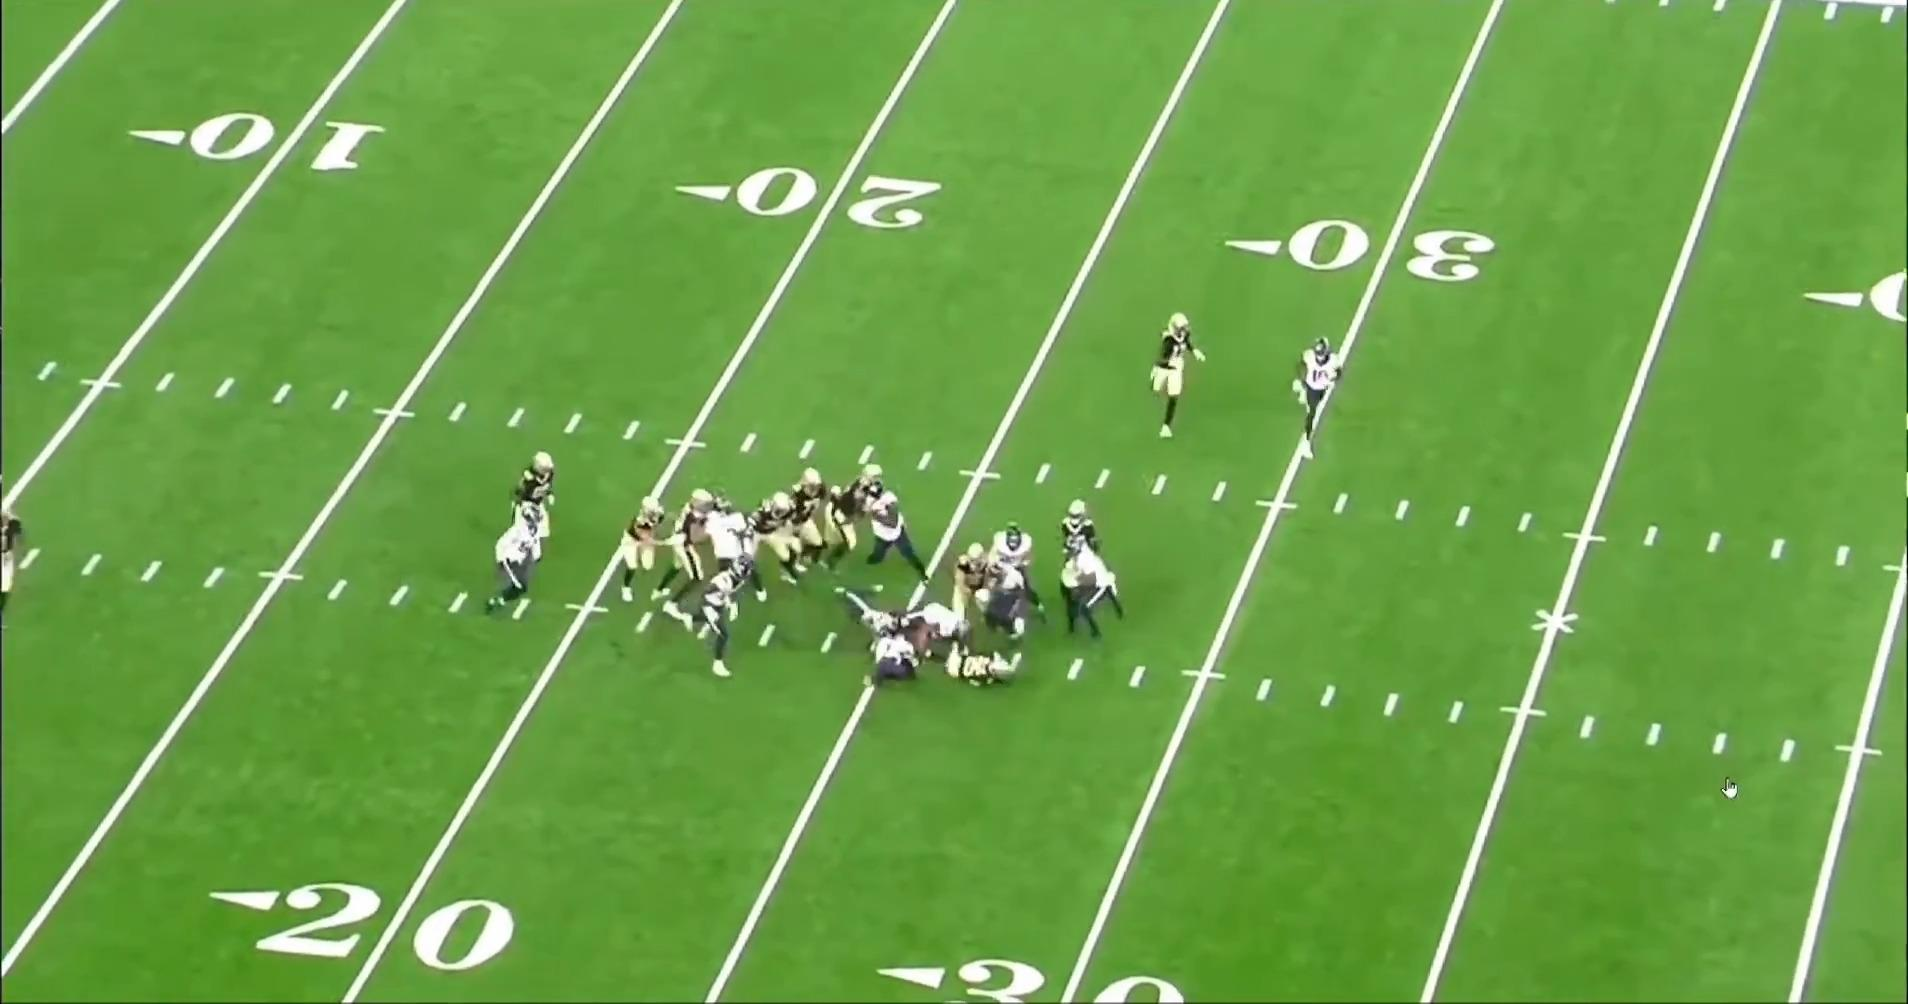defense: (860, 481, 935, 588), (697, 495, 772, 600), (1060, 535, 1133, 642), (1289, 340, 1346, 471), (494, 504, 555, 621), (979, 522, 1045, 626), (847, 606, 918, 700), (696, 563, 743, 684), (891, 602, 976, 647)
oline: (658, 487, 733, 619), (822, 464, 886, 572), (784, 468, 845, 579), (743, 484, 811, 582), (511, 446, 570, 523)
qb: (0, 489, 30, 620)
skill: (1152, 311, 1210, 445), (617, 495, 680, 605), (950, 538, 1000, 651), (934, 647, 1027, 692), (1058, 499, 1101, 548)
